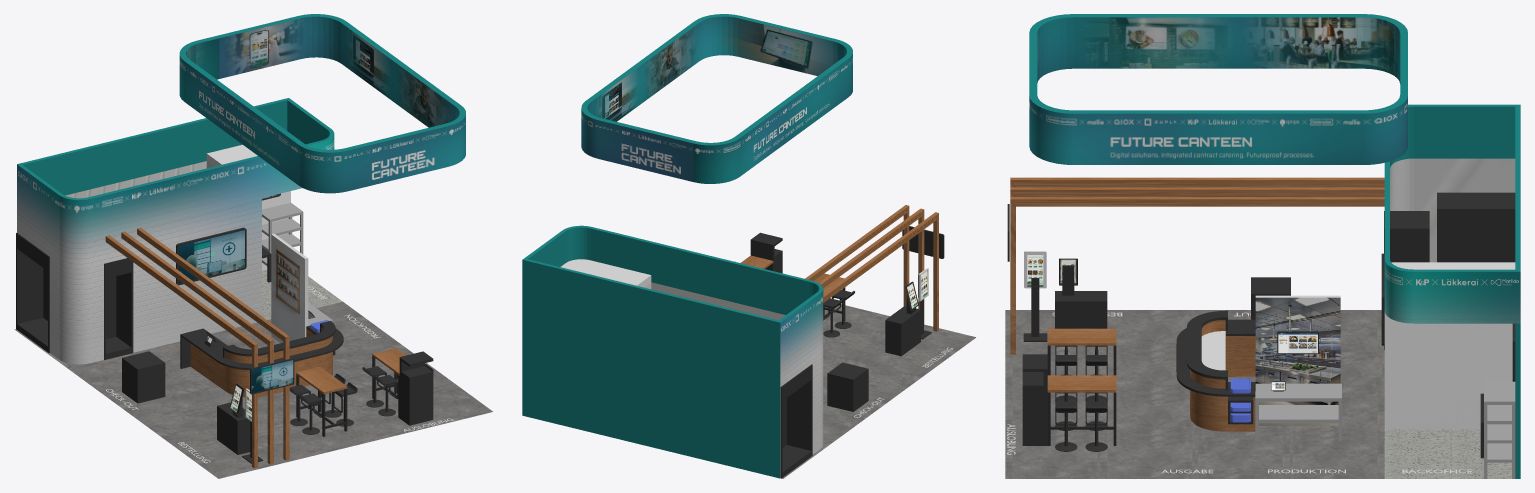
The model's file is Messestand_Internorga_27.glb.
The picture shows the model from 3 angles, left to right: view 1: azimuth 30°, elevation 25°; view 2: azimuth 150°, elevation 25°; view 3: azimuth 270°, elevation 25°; orthographic projection. The views are drawn at different scales.
Parts seen in each view (by area): view 1: Banderole, Floor, Banner, Front, Beams, base, Cube.002, LockBlox, Smart_fridge, Cube.009, Cube.003, Checkout_base (+9 smaller); view 2: Front, Banner, Banderole, Floor, Beams, LockBlox, Checkout_base, Checkout_base.001, Decke_Backoffice, Cube.003, Chair_2, Cube.004; view 3: Banderole, Floor, Front, Banner, Beams, base, Cube.002, LockBlox, Floor_Backoffice, Cube.007, Cube.008, Cube.003 (+11 smaller).
Part boxes in pixels (box(x1,y1,x2,y2)): Banderole: box(179, 14, 465, 193); Floor: box(68, 301, 492, 478); Banner: box(17, 98, 334, 241); Front: box(17, 161, 290, 364); Beams: box(105, 227, 289, 468); base: box(180, 321, 343, 397); Cube.002: box(271, 233, 308, 342); LockBlox: box(16, 233, 49, 352); Smart_fridge: box(104, 258, 133, 359); Cube.009: box(176, 227, 246, 285); Cube.003: box(399, 351, 433, 425); Checkout_base: box(122, 351, 165, 403); Front: box(522, 282, 823, 478); Banner: box(522, 225, 823, 361); Banderole: box(581, 14, 852, 183); Floor: box(823, 304, 975, 441); Beams: box(805, 205, 938, 331); LockBlox: box(780, 364, 812, 478); Checkout_base: box(827, 362, 868, 411); Checkout_base.001: box(885, 306, 920, 356); Decke_Backoffice: box(560, 259, 651, 287); Cube.003: box(750, 232, 782, 273); Chair_2: box(823, 290, 854, 337); Cube.004: box(902, 226, 944, 258); Banderole: box(1029, 14, 1407, 164); Floor: box(1005, 310, 1384, 478); Front: box(1384, 158, 1520, 478); Banner: box(1384, 104, 1520, 323); Beams: box(1010, 177, 1384, 354); base: box(1176, 310, 1255, 431); Cube.002: box(1255, 295, 1340, 425); LockBlox: box(1437, 192, 1515, 262); Floor_Backoffice: box(1384, 429, 1511, 478); Cube.007: box(1255, 383, 1341, 441); Cube.008: box(1484, 381, 1515, 478); Cube.003: box(1022, 354, 1047, 445).
Bounding box in the file's own units: 7 × 7.01 × 9.02.
Materials: 22 (15 with a texture image).
